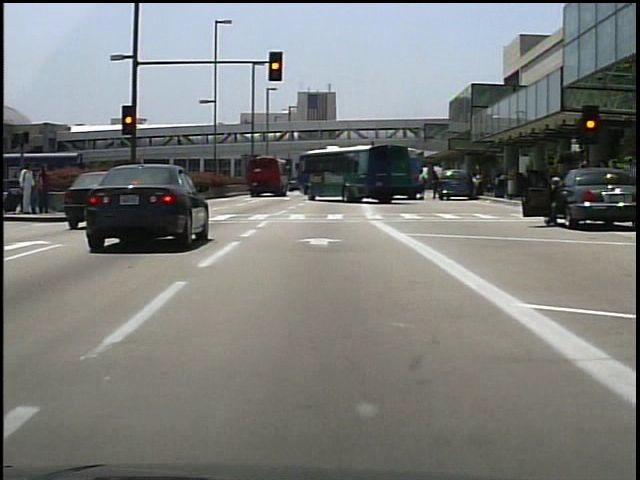person: (542, 171, 571, 229), (18, 161, 39, 215), (35, 162, 53, 220), (412, 167, 426, 201), (470, 169, 482, 199)
